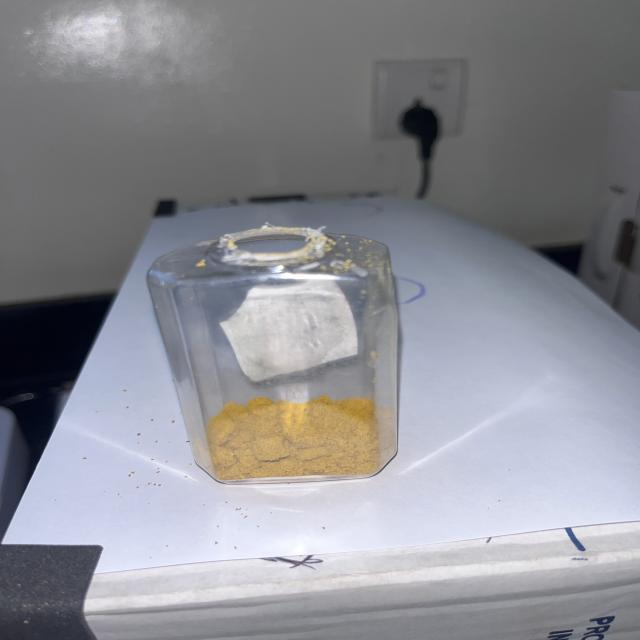curry_powder: (197, 396, 383, 484)
